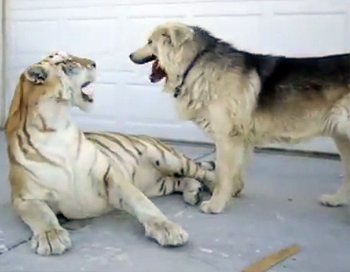dog: (124, 21, 350, 210)
tiger: (4, 50, 196, 236)
